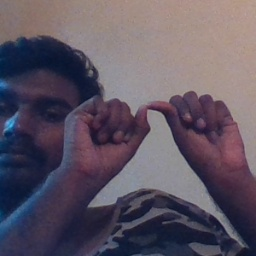A: (87, 84, 220, 175)
